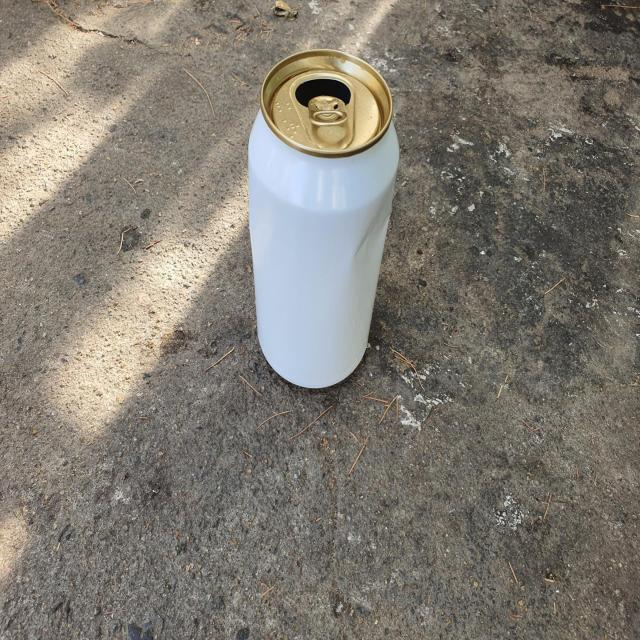can: (248, 48, 399, 388)
